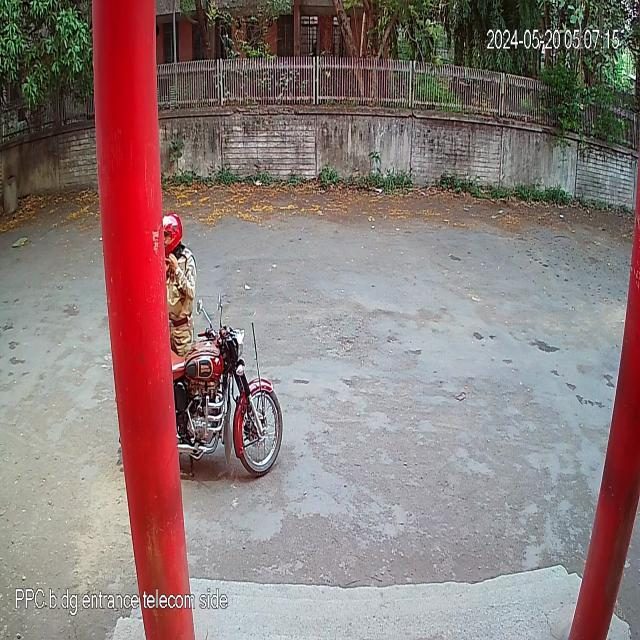NO-Hardhat: (159, 197, 191, 267)
